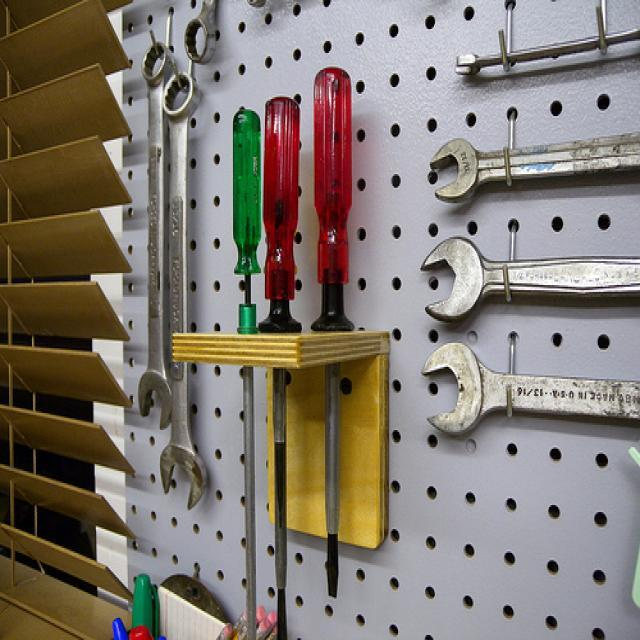screwdriver: (306, 58, 360, 630), (258, 89, 305, 640), (227, 98, 265, 640)
wrench: (156, 70, 212, 518), (418, 336, 640, 448), (413, 226, 640, 334), (420, 120, 640, 208), (133, 28, 177, 445), (441, 25, 640, 78)
